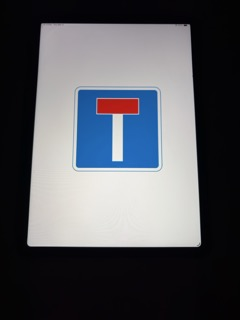DEAD END: (73, 86, 163, 171)
